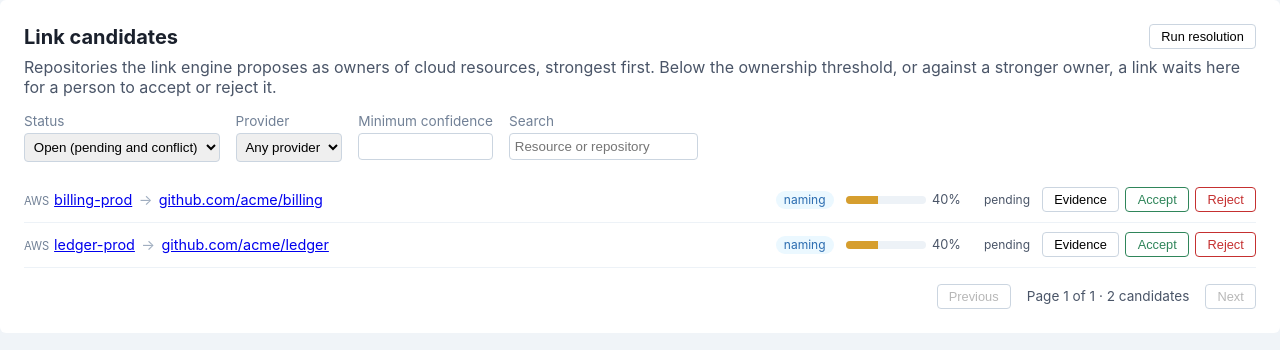
Scenario: CandidateLinksView › runs a resolution, waits for its run to finish and lists what it found
The width and height of the screenshot is (1280, 350).
Click the button with test id "run-resolution".
click(1203, 36)  # box [1149,24,1256,49]
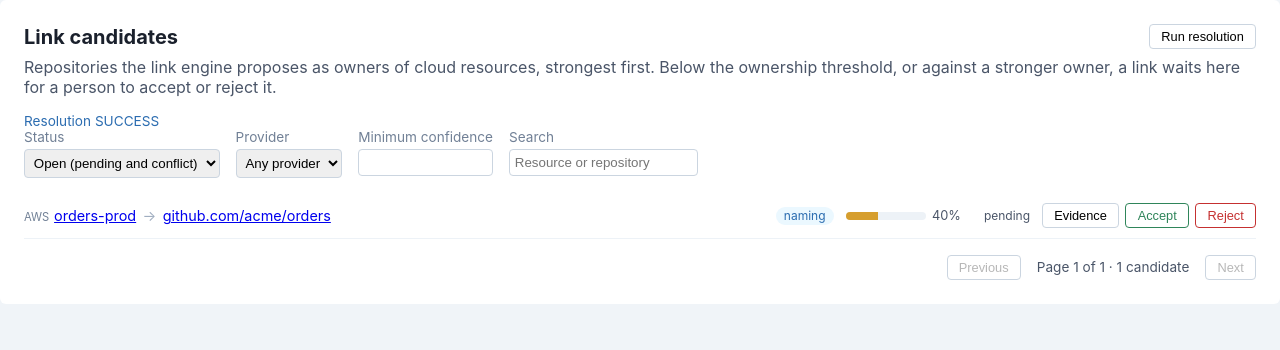
Check: the text "orders-prod" is shown, box [54,207,136,224]
Check: the text with test id "resolution-status" shows "SUCCESS", box [24,113,159,129]
